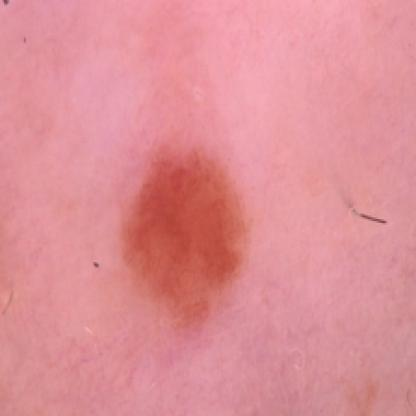benign: (128, 156, 243, 323)
